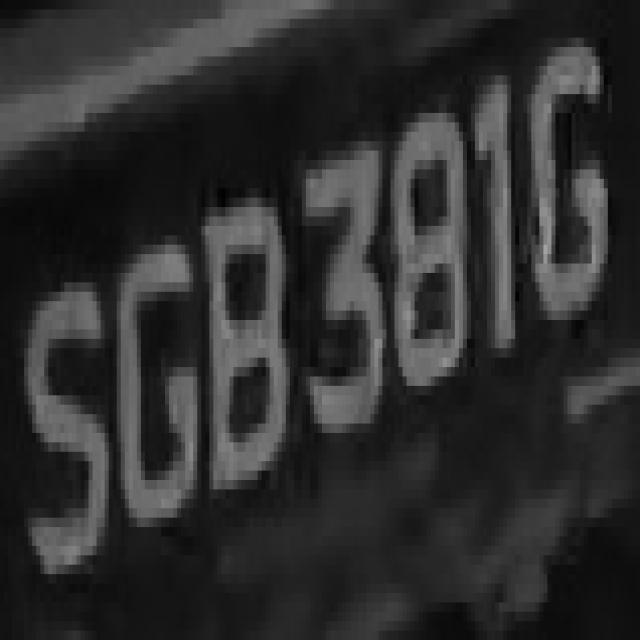1: (471, 66, 523, 405)
3: (294, 122, 382, 452)
8: (382, 94, 471, 405)
B: (213, 198, 290, 508)
G: (109, 188, 201, 556), (523, 38, 624, 348)
S: (12, 245, 113, 593)
